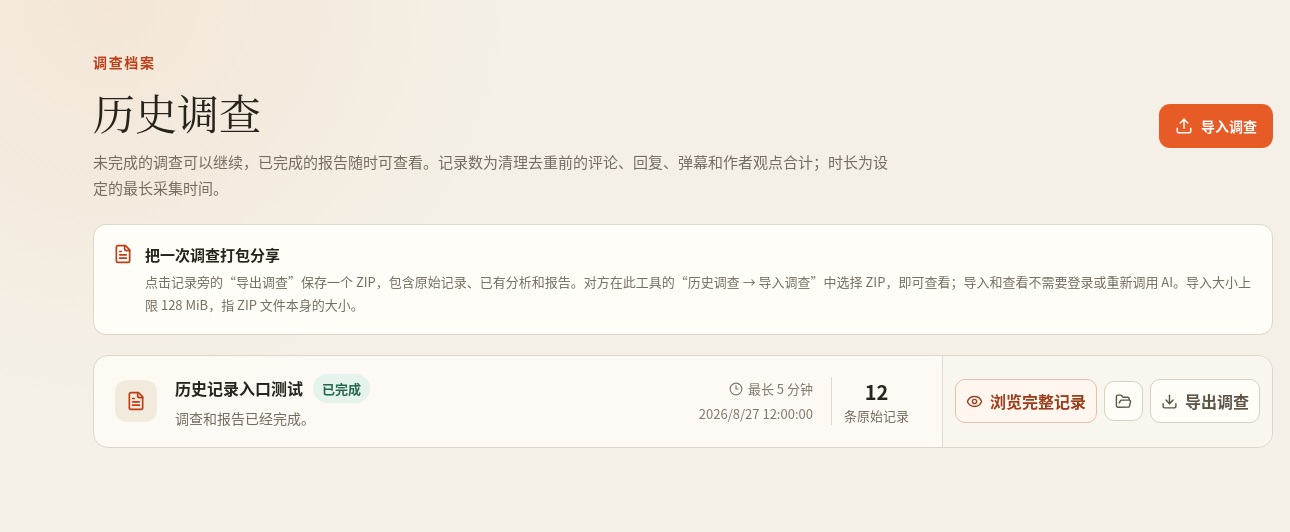
History › restores export after an error instead of reporting a downloaded file
The image size is (1290, 532).
Click the button "导出调查". click: [1205, 401]
box: [1150,379,1260,423]
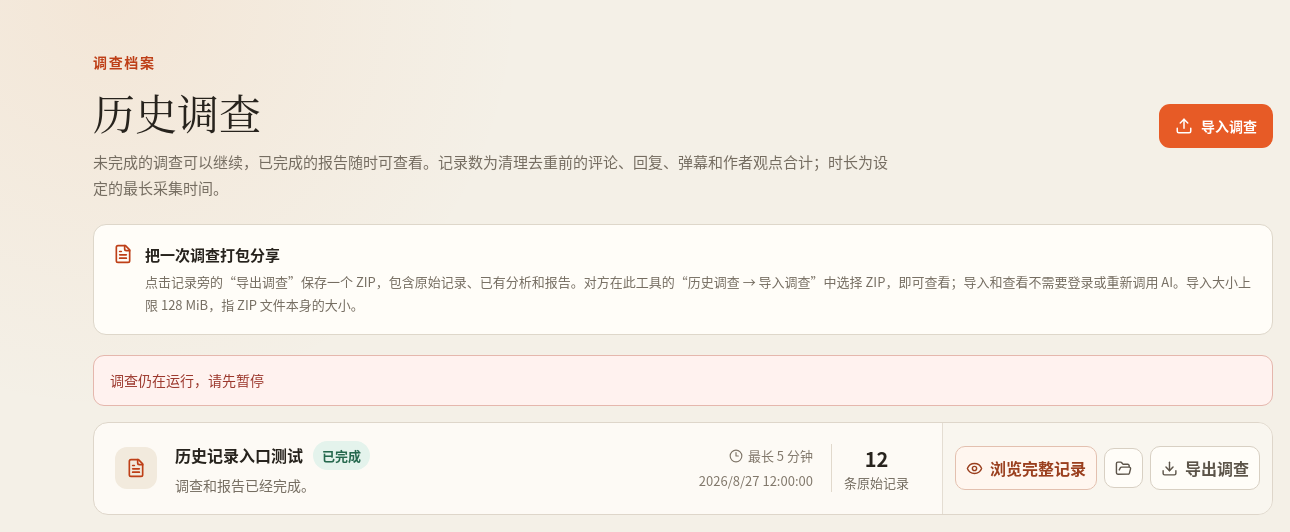
Expected: the button "导出调查" is enabled, [1150,446,1260,490]
Now the message reads "调查仍在运行，请先暂停", box [110,370,264,390]
